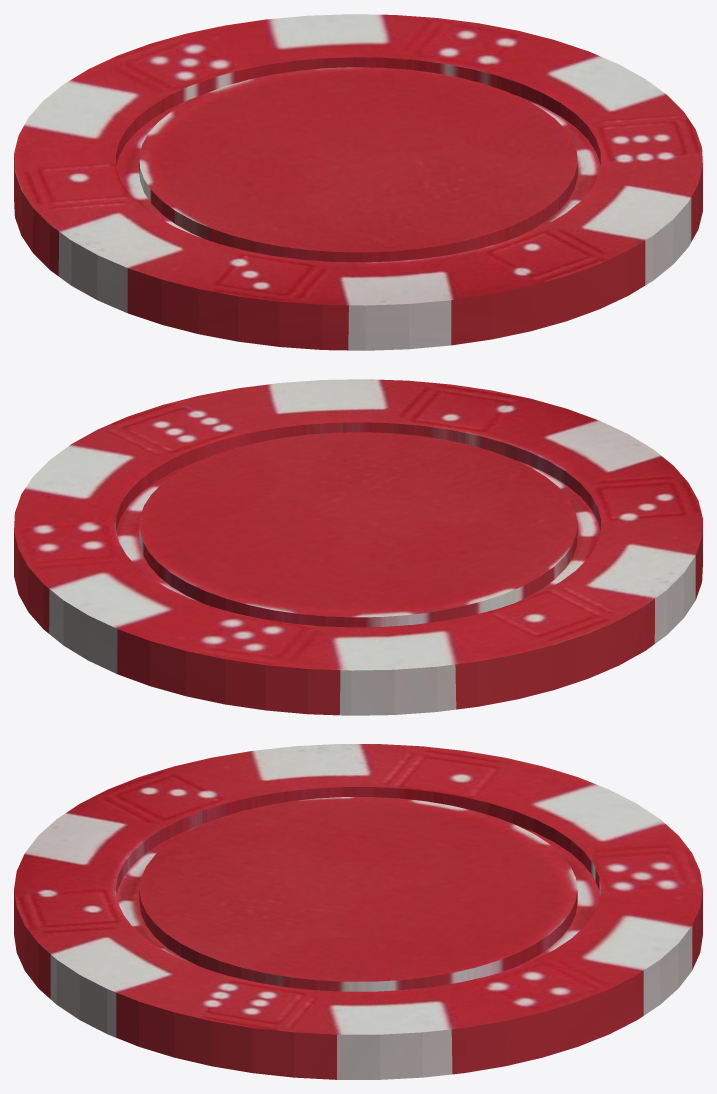
Rendered from Poker Chip (Red).fbx.
The picture shows the model from 3 angles, top to bottom: view 1: azimuth 30°, elevation 25°; view 2: azimuth 150°, elevation 25°; view 3: azimuth 270°, elevation 25°; orthographic projection.
Parts seen in each view (by area): view 1: Circle; view 2: Circle; view 3: Circle.
Boxes of the visible parts, <box> form: Circle: <box>14,14,702,350</box>; Circle: <box>14,379,702,715</box>; Circle: <box>14,744,702,1079</box>.
Bounding box in the file's own units: 200 × 14.49 × 200.
